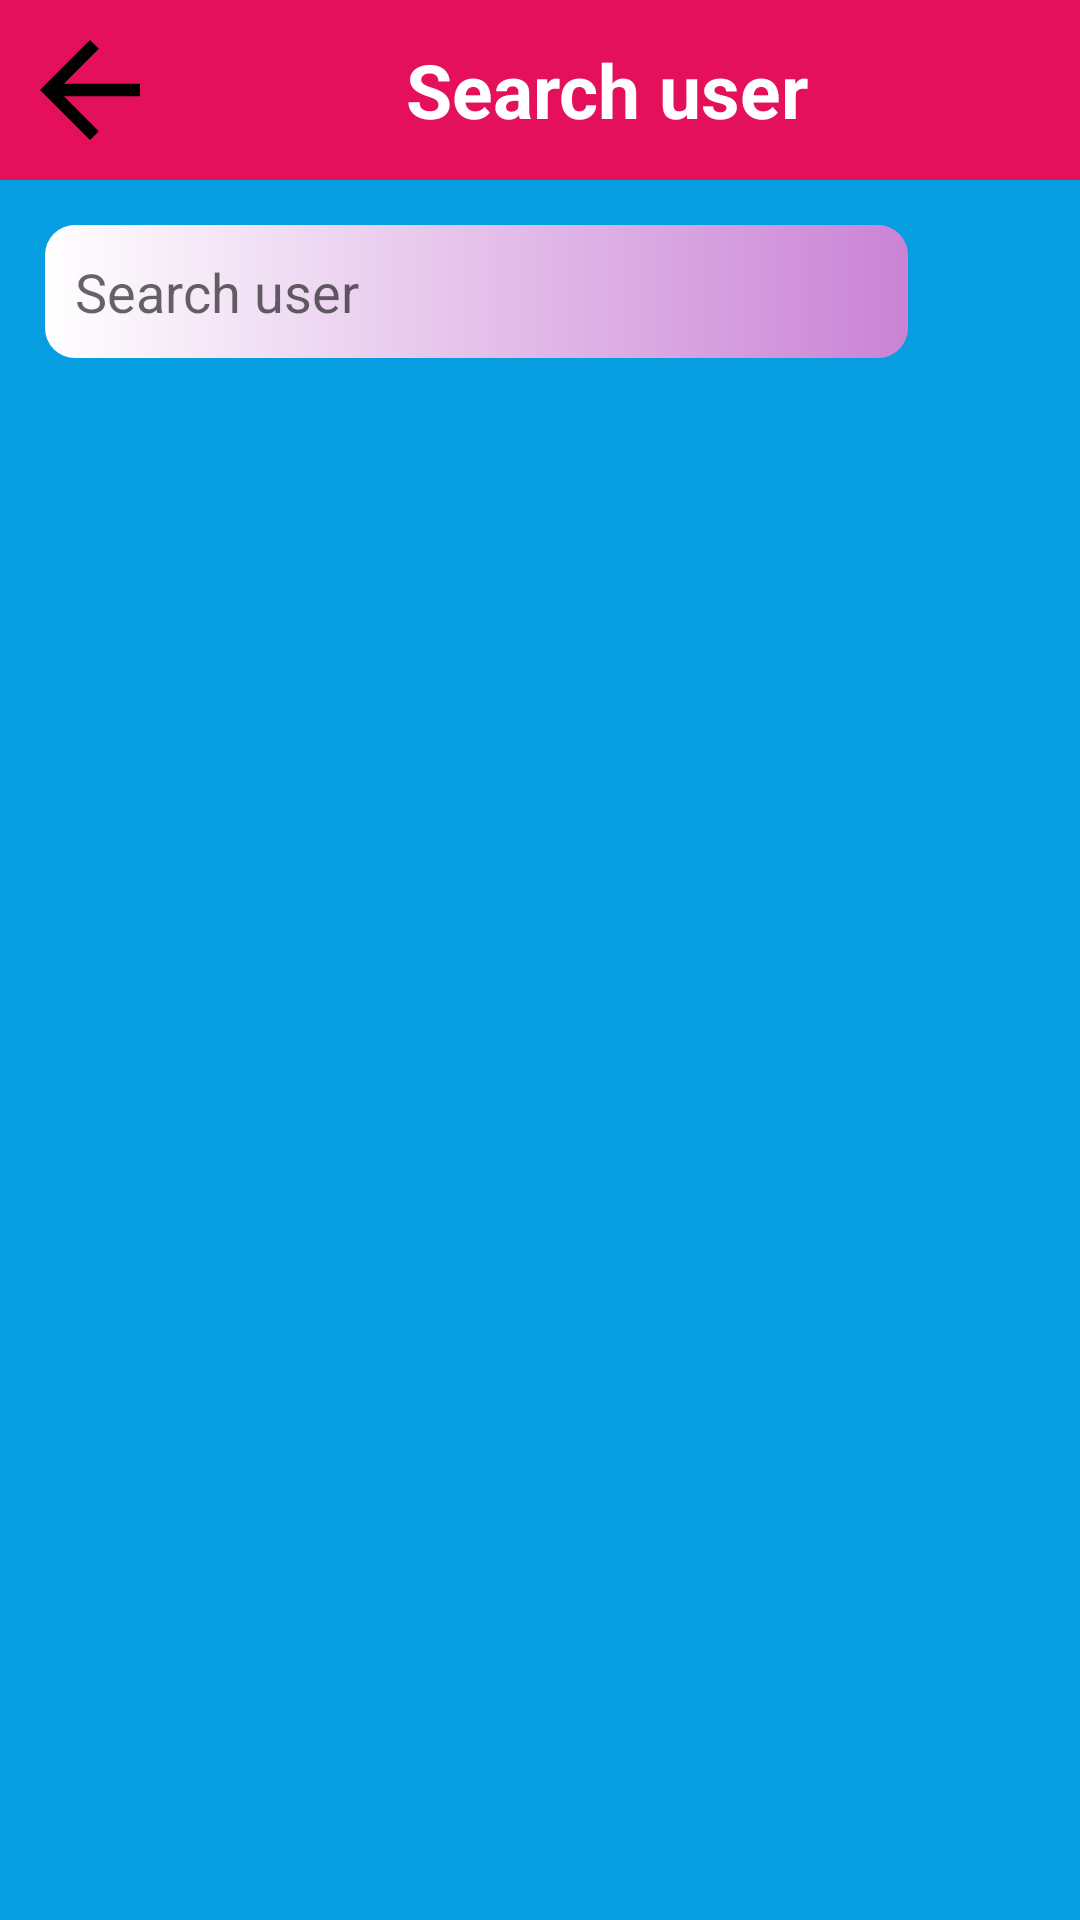

Locate icon controls on the screen. Image size 1080w x 1920h, boxes as (x1, y1, x2, y2).
back: (40, 40, 140, 140)
